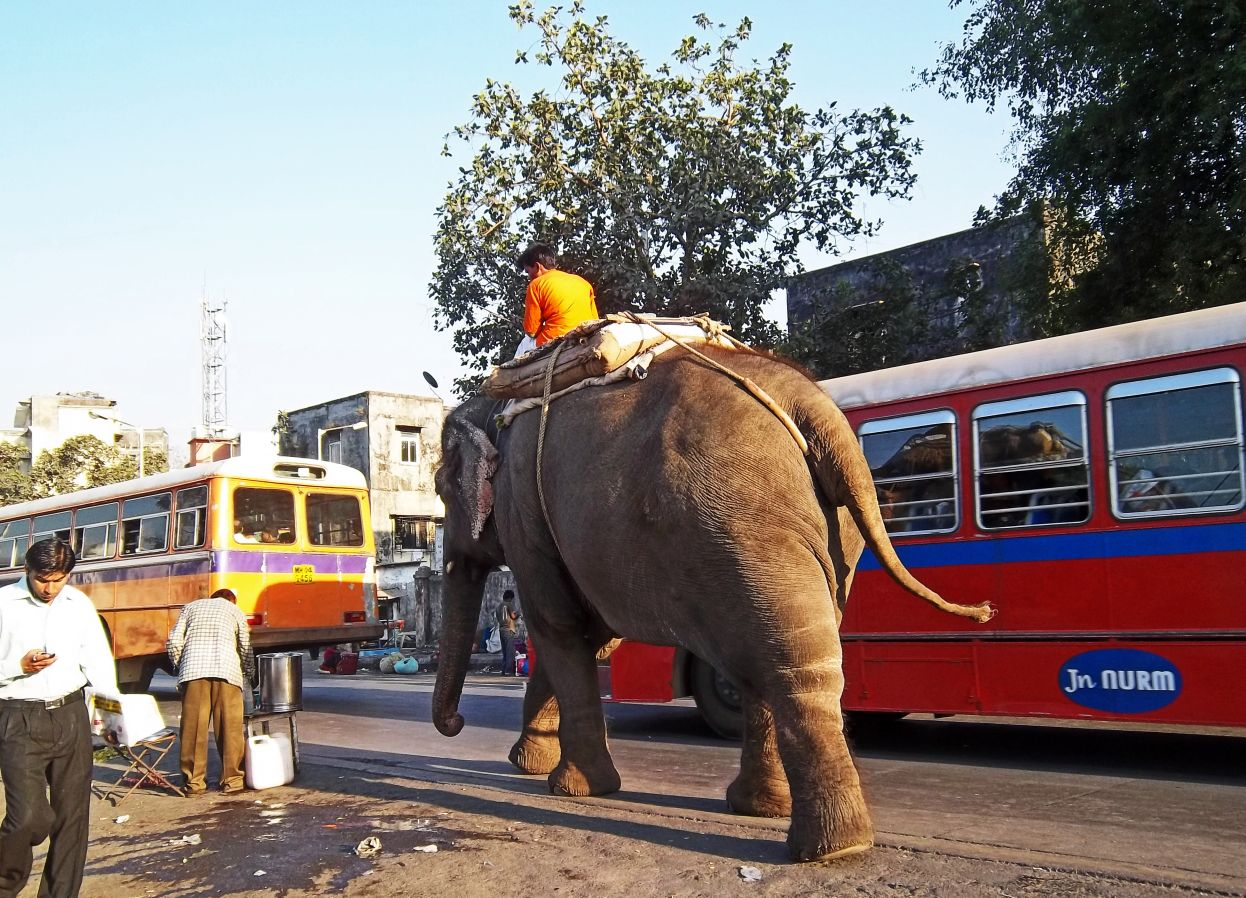Indian Elephant: (381, 315, 1010, 878)
